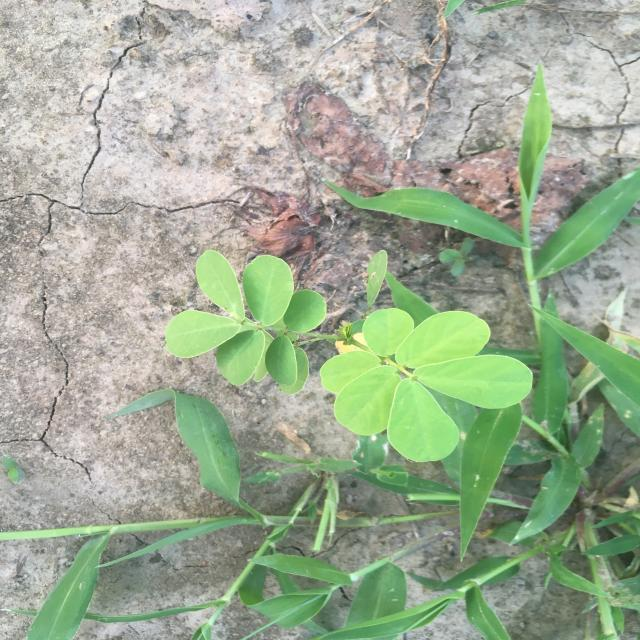Sicklepod: (162, 248, 536, 464)
